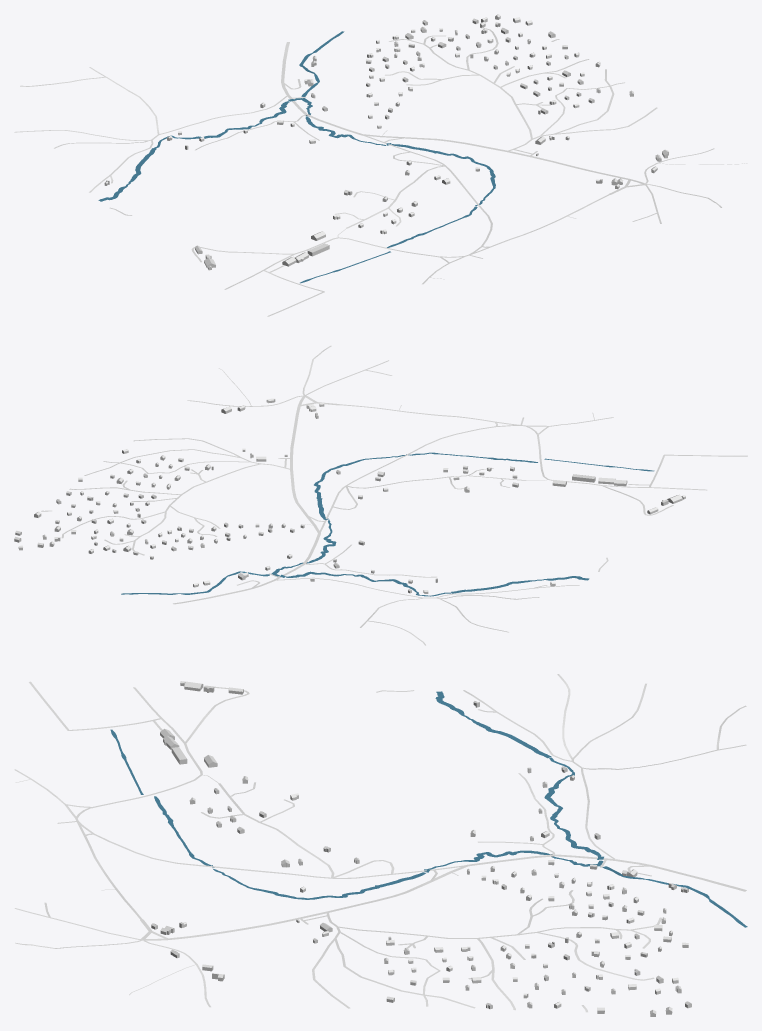
Rendered from objekty.glb.
3 views of the same model, one above another, from view 1: azimuth 30°, elevation 25°; view 2: azimuth 150°, elevation 25°; view 3: azimuth 270°, elevation 25° (orthographic). The views are drawn at different scales.
Parts seen in each view (by area): view 1: Cesty_04_02, Budovy_04_02, Voda_04_02, Okna_Dvere_04_02; view 2: Cesty_04_02, Budovy_04_02, Voda_04_02; view 3: Cesty_04_02, Budovy_04_02, Voda_04_02, Okna_Dvere_04_02.
Part boxes in pixels (box(x1,y1,x2,y2)): Cesty_04_02: box(14, 27, 747, 316); Budovy_04_02: box(104, 14, 668, 270); Voda_04_02: box(98, 31, 495, 283); Okna_Dvere_04_02: box(105, 17, 667, 269); Cesty_04_02: box(41, 345, 747, 645); Budovy_04_02: box(14, 398, 685, 593); Voda_04_02: box(121, 452, 654, 596); Cesty_04_02: box(14, 674, 746, 1012); Budovy_04_02: box(151, 681, 691, 1016); Voda_04_02: box(110, 691, 747, 927); Okna_Dvere_04_02: box(152, 684, 691, 1016).
Size of the model in its own units: 1005 by 57.08 by 1006.
